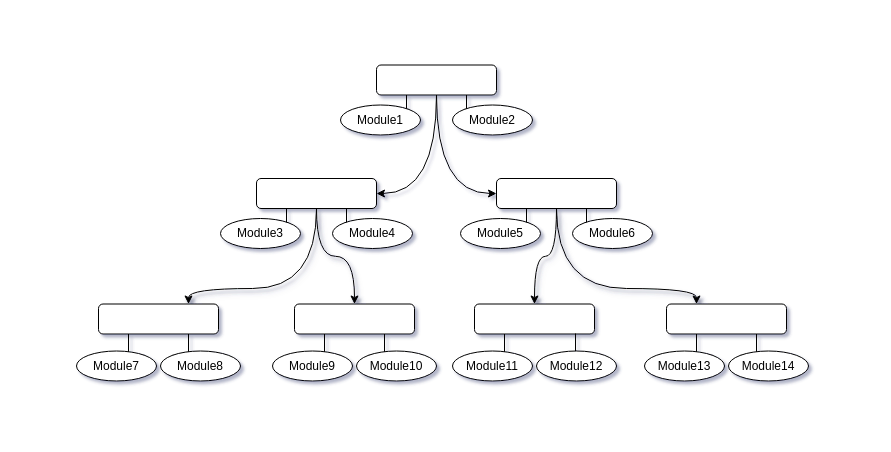
This 891x452 diagram has some shape labels left out. Here are the shapes that lost their labels. From the top down, the centre of each, then its label:
the point at 436,79: Component1
the point at 316,193: Component2
the point at 556,193: Component3
the point at 158,318: Component4
the point at 354,318: Component5
the point at 534,318: Component6
the point at 726,318: Component7
